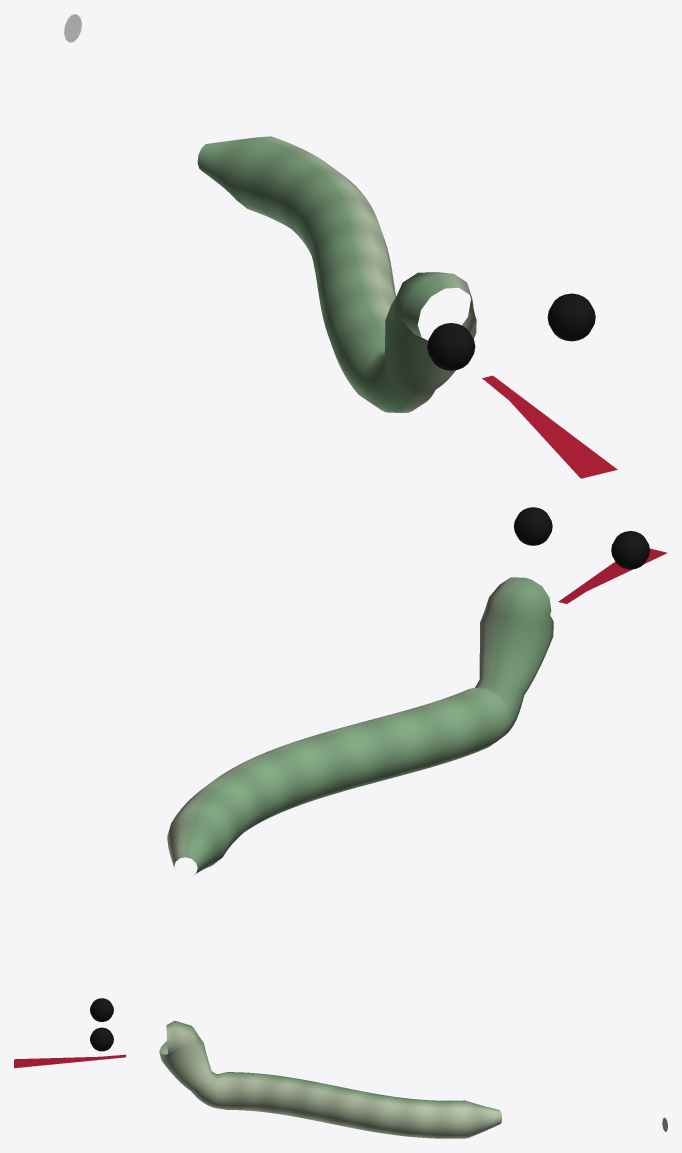
The model's file is lora.glb.
3 views of the same model, one above another, from view 1: azimuth 30°, elevation 25°; view 2: azimuth 150°, elevation 25°; view 3: azimuth 270°, elevation 25° (orthographic). The views are drawn at different scales.
Size of the model in its own units: 0.5065 by 0.3936 by 2.45.
